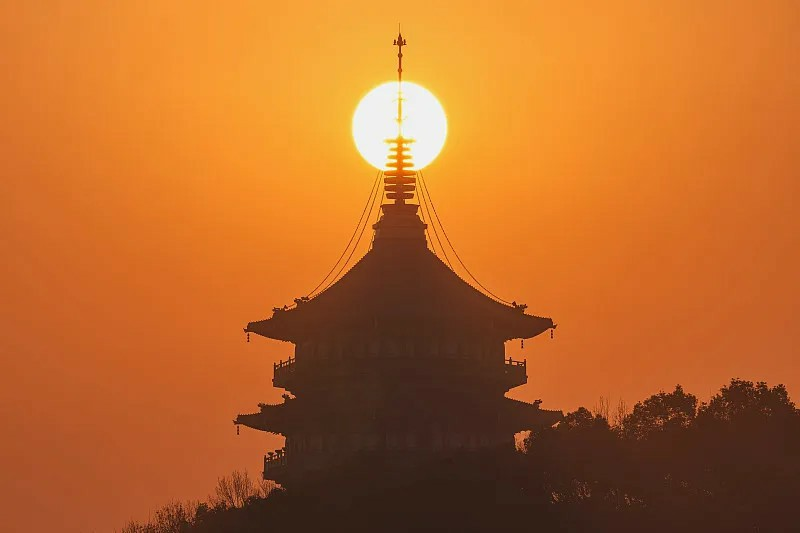Leifeng: (229, 23, 563, 532)
